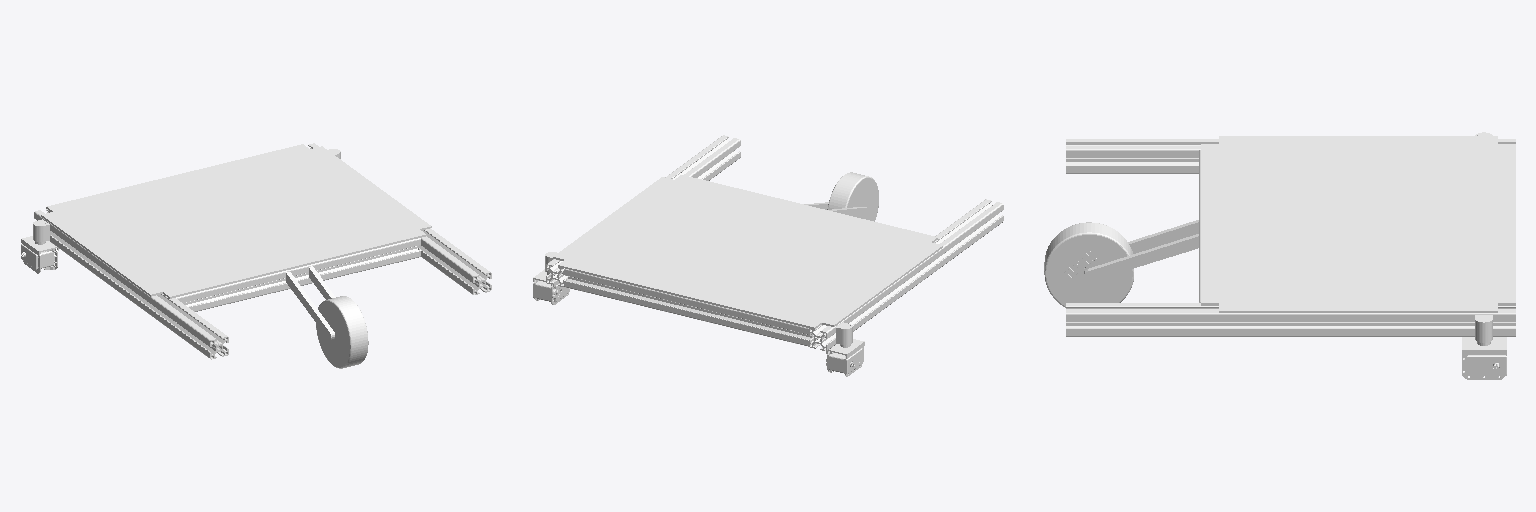
robot.urdf — assembly:
<?xml version="1.0" encoding="utf-8"?>
<!-- This URDF was automatically created by SolidWorks to URDF Exporter! Originally created by [author] ([email redacted]) 
     Commit Version: 1.5.1-0-g916b5db  Build Version: 1.5.7152.31018
     For more information, please see http://wiki.ros.org/sw_urdf_exporter -->
<robot
  name="assembly">
  <link
    name="base_link">
    <inertial>
      <origin
        xyz="0.0276418278157166 -0.472599056033966 0.0312550060354526"
        rpy="0 0 0" />
      <mass
        value="2.26299534521545" />
      <inertia
        ixx="0.0236090944163617"
        ixy="4.20123862892758E-19"
        ixz="3.29690604315033E-08"
        iyy="0.0191899669560079"
        iyz="-1.27406422046969E-05"
        izz="0.0424983502674055" />
    </inertial>
    <visual>
      <origin
        xyz="0 0 0"
        rpy="0 0 0" />
      <geometry>
        <mesh
          filename="package://assembly/meshes/base_link.STL" />
      </geometry>
      <material
        name="">
        <color
          rgba="0.752941176470588 0.752941176470588 0.752941176470588 1" />
      </material>
    </visual>
    <collision>
      <origin
        xyz="0 0 0"
        rpy="0 0 0" />
      <geometry>
        <mesh
          filename="package://assembly/meshes/base_link.STL" />
      </geometry>
    </collision>
  </link>
  <link
    name="Front">
    <inertial>
      <origin
        xyz="0.74891 0.028658 -0.0076879"
        rpy="0 0 0" />
      <mass
        value="0.23852" />
      <inertia
        ixx="0.00016726"
        ixy="3.6036E-08"
        ixz="1.4132E-08"
        iyy="0.00029897"
        iyz="4.4926E-08"
        izz="0.00016727" />
    </inertial>
    <visual>
      <origin
        xyz="0 0 0"
        rpy="0 0 0" />
      <geometry>
        <mesh
          filename="package://assembly/meshes/Front.STL" />
      </geometry>
      <material
        name="">
        <color
          rgba="1 1 1 1" />
      </material>
    </visual>
    <collision>
      <origin
        xyz="0 0 0"
        rpy="0 0 0" />
      <geometry>
        <mesh
          filename="package://assembly/meshes/Front.STL" />
      </geometry>
    </collision>
  </link>
  <joint
    name="F"
    type="continuous">
    <origin
      xyz="0 0 0"
      rpy="0 0 -1.5708" />
    <parent
      link="base_link" />
    <child
      link="Front" />
    <axis
      xyz="0 1 0" />
    <limit
      effort="0"
      velocity="7" />
  </joint>
  <link
    name="Left">
    <inertial>
      <origin
        xyz="0.4726 0.027642 0.031255"
        rpy="0 0 0" />
      <mass
        value="2.263" />
      <inertia
        ixx="0.01919"
        ixy="-5.0445E-19"
        ixz="1.2741E-05"
        iyy="0.023609"
        iyz="3.2969E-08"
        izz="0.042498" />
    </inertial>
    <visual>
      <origin
        xyz="0 0 0"
        rpy="0 0 0" />
      <geometry>
        <mesh
          filename="package://assembly/meshes/Left.STL" />
      </geometry>
      <material
        name="">
        <color
          rgba="0.75294 0.75294 0.75294 1" />
      </material>
    </visual>
    <collision>
      <origin
        xyz="0 0 0"
        rpy="0 0 0" />
      <geometry>
        <mesh
          filename="package://assembly/meshes/Left.STL" />
      </geometry>
    </collision>
  </link>
  <joint
    name="L"
    type="continuous">
    <origin
      xyz="0 0 0"
      rpy="0 0 -1.5708" />
    <parent
      link="base_link" />
    <child
      link="Left" />
    <axis
      xyz="0 1 0" />
    <limit
      effort="0"
      velocity="7" />
  </joint>
  <link
    name="Right">
    <inertial>
      <origin
        xyz="0 0 0"
        rpy="0 0 0" />
      <mass
        value="0" />
      <inertia
        ixx="0"
        ixy="0"
        ixz="0"
        iyy="0"
        iyz="0"
        izz="0" />
    </inertial>
    <visual>
      <origin
        xyz="0 0 0"
        rpy="0 0 0" />
      <geometry>
        <mesh
          filename="package://assembly/meshes/Right.STL" />
      </geometry>
      <material
        name="">
        <color
          rgba="1 1 1 1" />
      </material>
    </visual>
    <collision>
      <origin
        xyz="0 0 0"
        rpy="0 0 0" />
      <geometry>
        <mesh
          filename="package://assembly/meshes/Right.STL" />
      </geometry>
    </collision>
  </link>
  <joint
    name="R"
    type="continuous">
    <origin
      xyz="0 0 0"
      rpy="0 0 -1.5708" />
    <parent
      link="base_link" />
    <child
      link="Right" />
    <axis
      xyz="0 1 0" />
    <limit
      effort="0"
      velocity="7" />
  </joint>
</robot>

--- What the picture shows (computed from the rendered views, not written in the file) ---
3 views of the same robot in one strip: view 1: azimuth 30°, elevation 25°; view 2: azimuth 150°, elevation 25°; view 3: azimuth 270°, elevation 25° (orthographic).
Model assembly with 4 links and 3 joints (3 continuous), rooted at base_link, posed every joint at zero.
Visible links, largest first — view 1: Right, Front; view 2: Right, Front; view 3: Right, Front.
Boxes of the visible links, left/top/right/bottom form: Right: left=21, top=143, right=491, bottom=359; Front: left=316, top=296, right=368, bottom=368; Right: left=533, top=135, right=1003, bottom=376; Front: left=827, top=172, right=878, bottom=221; Right: left=1066, top=132, right=1515, bottom=379; Front: left=1044, top=222, right=1133, bottom=307.
Size in the robot's own frame: 0.5255 by 0.5234 by 0.1045 metres.
2 mesh visuals loaded from 4 distinct referenced files (2 binary STL); not drawn: 2 (reference not matched to a file when rendering).